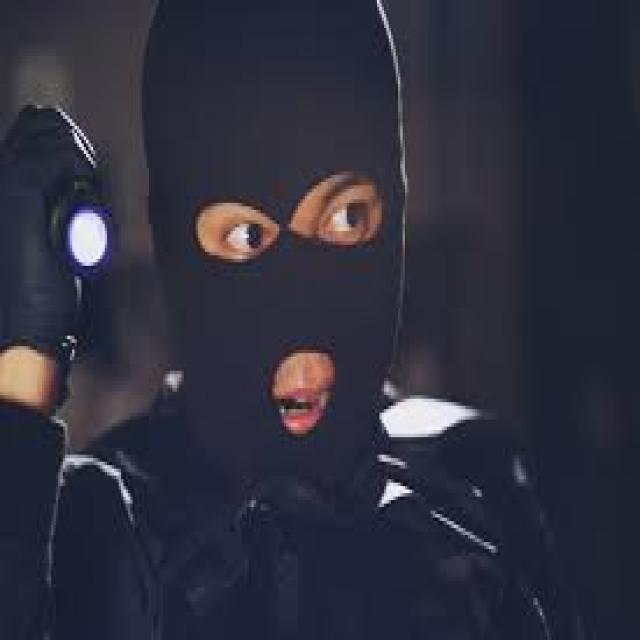74: (69, 212, 108, 268)
handguns: (235, 335, 384, 529)
